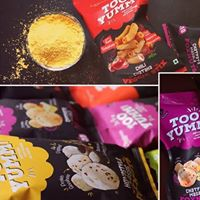plastic: (1, 140, 156, 199), (81, 1, 180, 69), (160, 95, 200, 193), (1, 100, 95, 140), (88, 104, 155, 144), (163, 23, 200, 61)
tooyumm: (1, 139, 29, 187), (98, 1, 135, 29), (167, 109, 200, 136), (121, 104, 149, 132)
wrapper: (6, 101, 150, 196), (95, 4, 200, 73)
